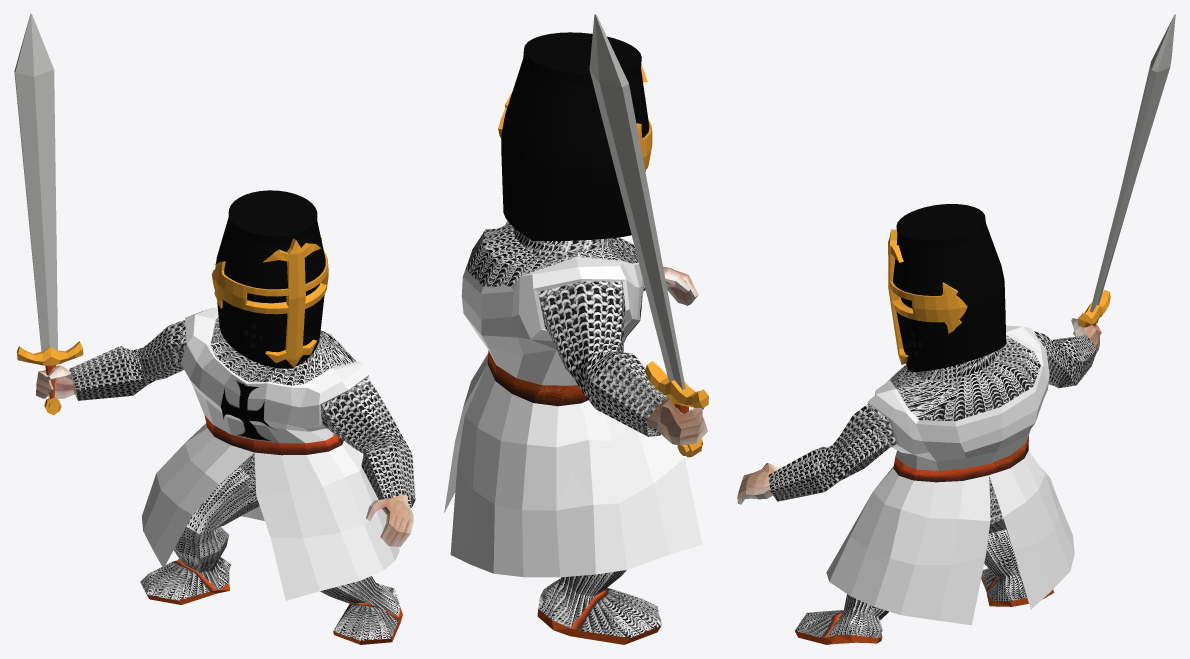
Rendered from dark_templar_knight.obj.
3 views of the same model, side by side, from view 1: azimuth 30°, elevation 25°; view 2: azimuth 150°, elevation 25°; view 3: azimuth 270°, elevation 25° (orthographic). The views are drawn at different scales.
Visible parts, largest first — view 1: my_model_a6.003; view 2: my_model_a6.003; view 3: my_model_a6.003.
Part boxes in pixels (x1,y1,x2,y2): my_model_a6.003: (14,14,415,644); my_model_a6.003: (444,14,708,644); my_model_a6.003: (737,14,1175,644).
Size of the model in its own units: 7.63 by 14.18 by 10.45.
2 materials, 2 textured.
